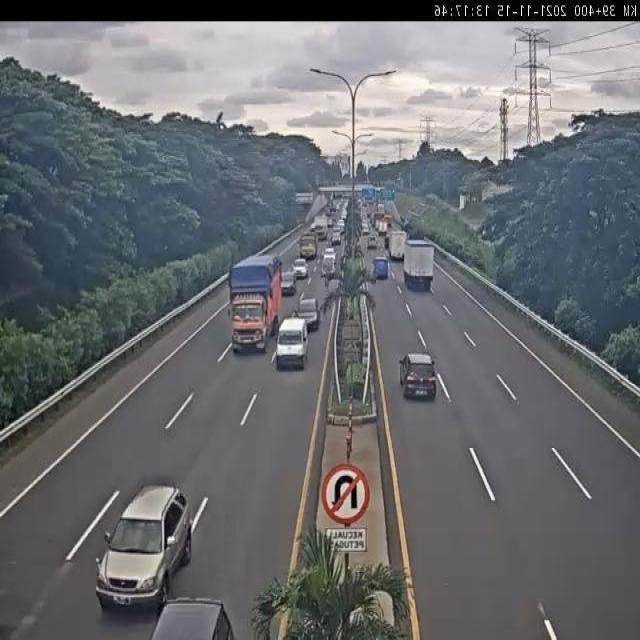Car: (94, 483, 192, 611), (146, 595, 236, 638), (399, 349, 438, 403), (296, 296, 319, 333), (280, 270, 296, 295), (372, 256, 389, 279), (293, 258, 308, 279), (324, 247, 336, 265), (367, 236, 377, 249), (331, 233, 341, 246), (362, 224, 370, 236)
Truck: (226, 255, 282, 354), (403, 240, 436, 288), (298, 232, 318, 258)
Van: (276, 317, 310, 369)
